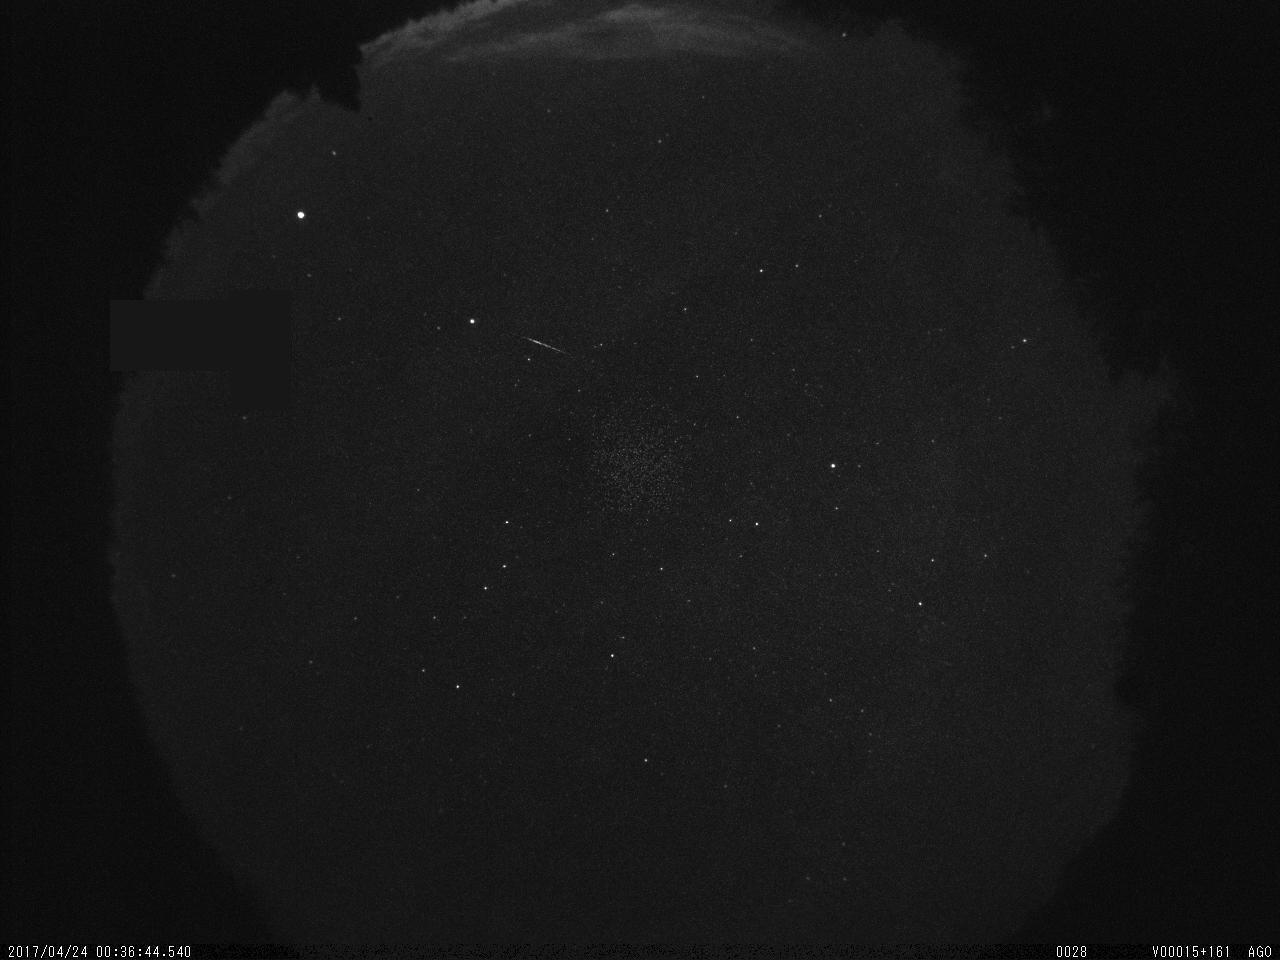Meteor: (520, 325, 580, 363)
